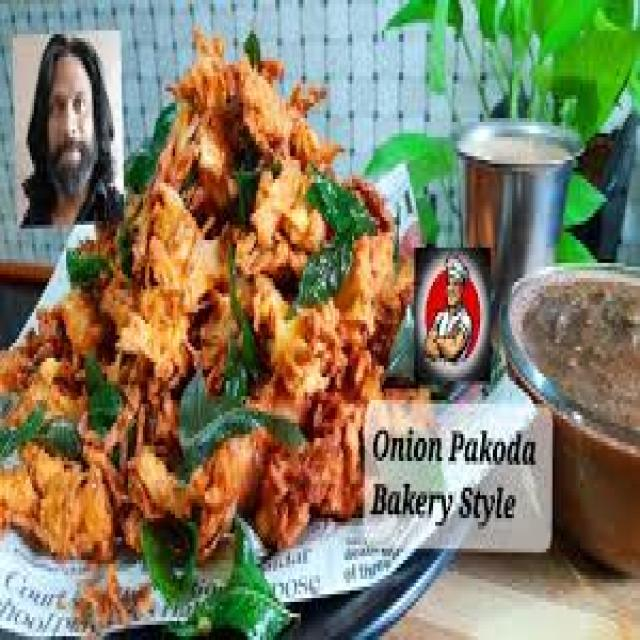BAJI: (0, 40, 389, 563)
